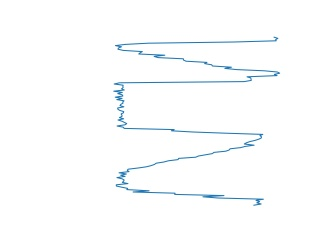distributaryChannelFill: (109, 71, 266, 142)
mouthBar: (113, 31, 283, 77)
underwaterDistributaryChannel: (113, 135, 265, 209)
